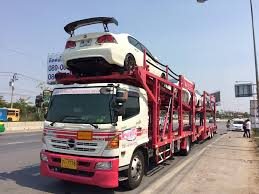truck: (39, 83, 163, 191)
